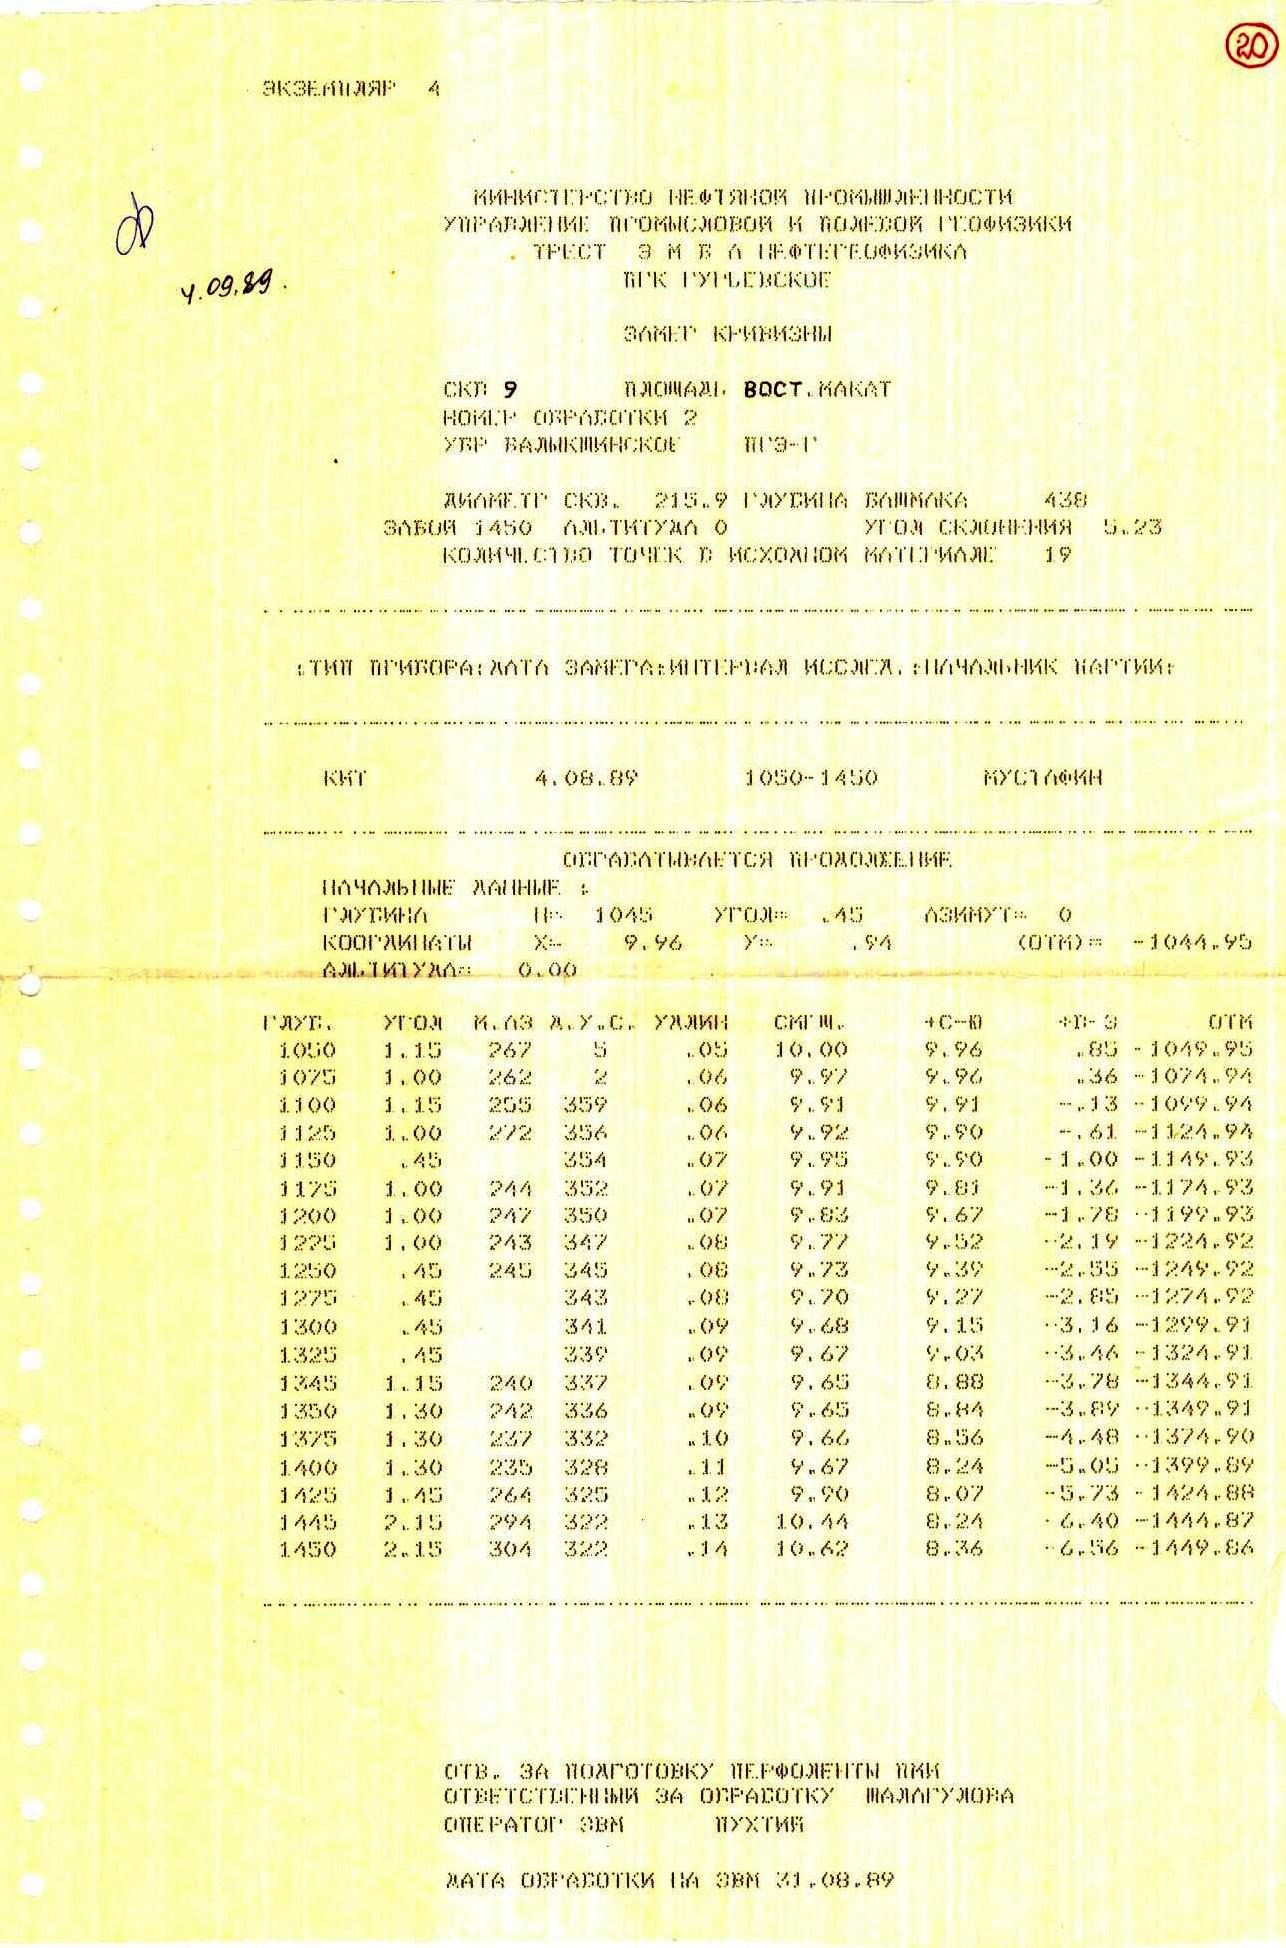Borderless: (266, 983, 1277, 1606)
